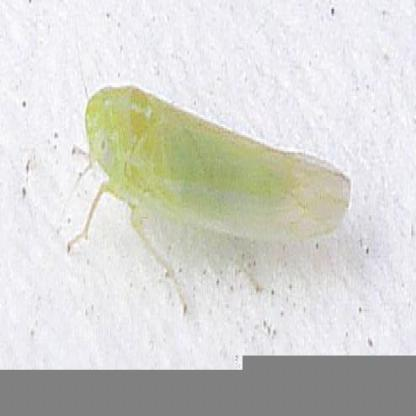green-leafhopper: (66, 84, 357, 315)
